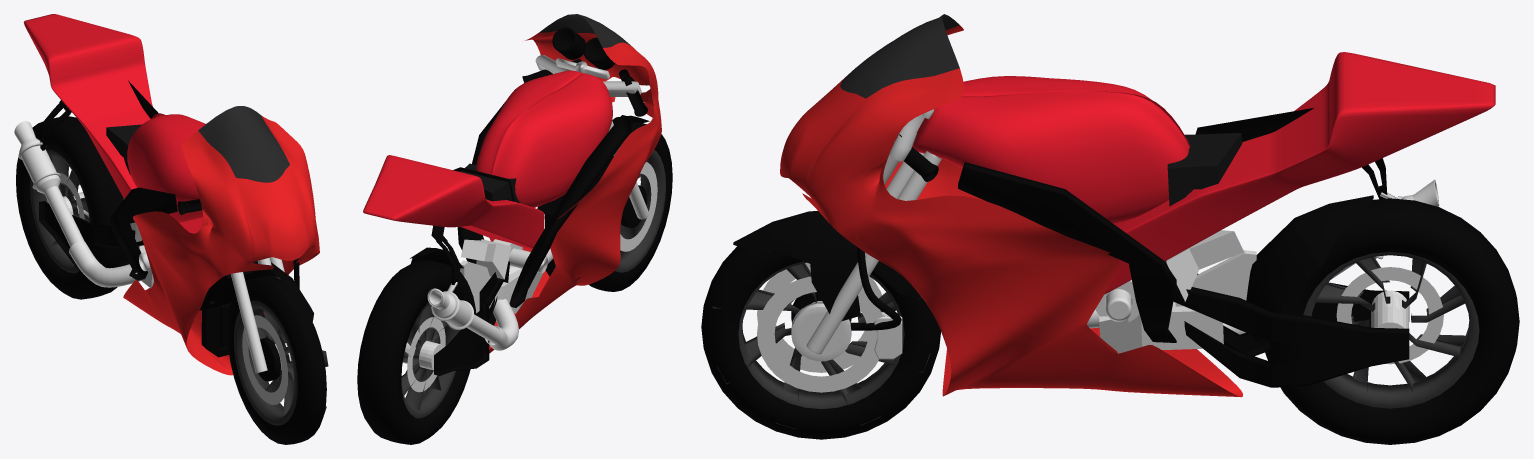
Rendered from yamaha m1.glb.
3 renders of one model, left to right at view 1: azimuth 30°, elevation 25°; view 2: azimuth 150°, elevation 25°; view 3: azimuth 270°, elevation 25°, orthographic. The views are drawn at different scales.
Parts seen in each view (by area): view 1: Plane, Plane.003, Circle.001, Circle, Plane.002, Plane.007, Circle.003, Plane.013, Cylinder.010, BezierCurve, Cylinder.002, Circle.007 (+11 smaller); view 2: Plane, Plane.002, Circle.001, Plane.003, Plane.007, Plane.013, Circle, Circle.003, Circle.004, Cylinder.004, Cube, Circle.005 (+19 smaller); view 3: Plane, Plane.003, Plane.002, Circle.001, Circle, Plane.013, Plane.005, Plane.006, Plane.001, Circle.005, Circle.006, Circle.004 (+15 smaller).
Boxes of the visible parts, x1=… form: Plane: x1=123, y1=106, x2=319, y2=375; Plane.003: x1=23, y1=14, x2=203, y2=233; Circle.001: x1=16, y1=116, x2=127, y2=299; Circle: x1=227, y1=276, x2=326, y2=444; Plane.002: x1=127, y1=113, x2=205, y2=222; Plane.007: x1=110, y1=187, x2=177, y2=280; Circle.003: x1=234, y1=300, x2=297, y2=425; Plane.013: x1=39, y1=201, x2=143, y2=272; Cylinder.010: x1=14, y1=121, x2=60, y2=193; BezierCurve: x1=69, y1=241, x2=140, y2=287; Cylinder.002: x1=231, y1=257, x2=284, y2=373; Circle.007: x1=242, y1=315, x2=288, y2=404; Plane: x1=489, y1=14, x2=661, y2=353; Plane.002: x1=476, y1=70, x2=612, y2=207; Circle.001: x1=357, y1=260, x2=476, y2=444; Plane.003: x1=363, y1=155, x2=544, y2=249; Plane.007: x1=509, y1=115, x2=631, y2=307; Plane.013: x1=434, y1=261, x2=509, y2=375; Circle: x1=589, y1=121, x2=672, y2=291; Circle.003: x1=615, y1=150, x2=665, y2=272; Circle.004: x1=401, y1=304, x2=447, y2=410; Cylinder.004: x1=535, y1=55, x2=641, y2=96; Cube: x1=461, y1=239, x2=511, y2=279; Circle.005: x1=401, y1=302, x2=460, y2=418; Plane: x1=780, y1=14, x2=1242, y2=397; Plane.003: x1=1104, y1=52, x2=1495, y2=294; Plane.002: x1=912, y1=76, x2=1190, y2=223; Circle.001: x1=1264, y1=198, x2=1519, y2=444; Circle: x1=701, y1=246, x2=940, y2=439; Plane.013: x1=1173, y1=274, x2=1409, y2=387; Plane.005: x1=958, y1=162, x2=1176, y2=342; Plane.006: x1=1246, y1=195, x2=1373, y2=349; Plane.001: x1=733, y1=211, x2=915, y2=321; Circle.005: x1=1303, y1=252, x2=1479, y2=408; Circle.006: x1=757, y1=276, x2=882, y2=392; Circle.004: x1=1315, y1=257, x2=1465, y2=391.
Bounding box in the file's own units: 2.1 × 4.84 × 8.48.
